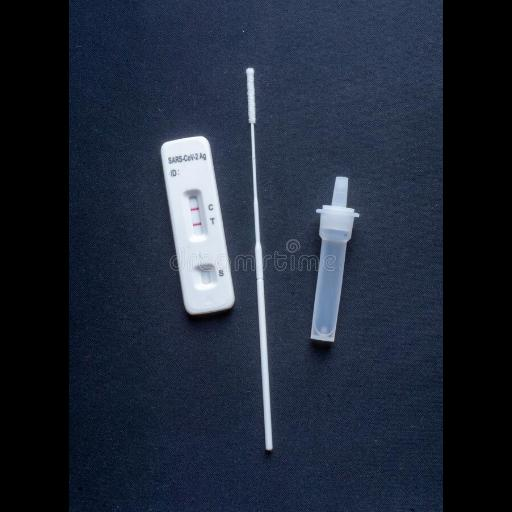Pos: (158, 134, 238, 317)
